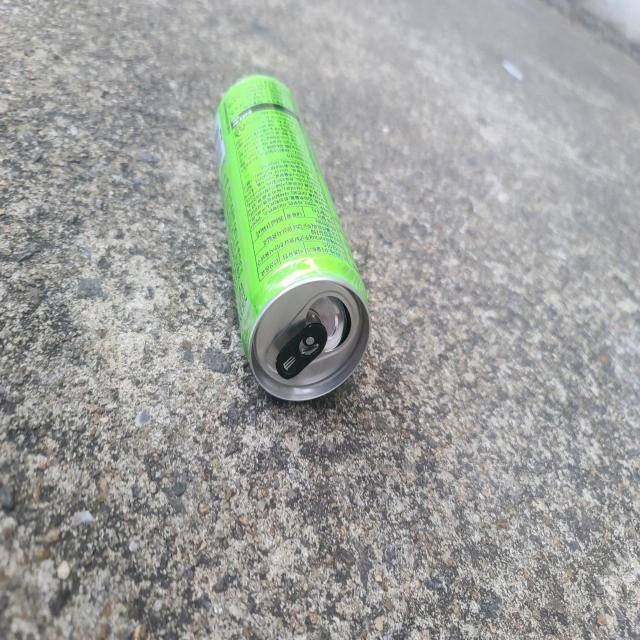can: (215, 74, 370, 401)
